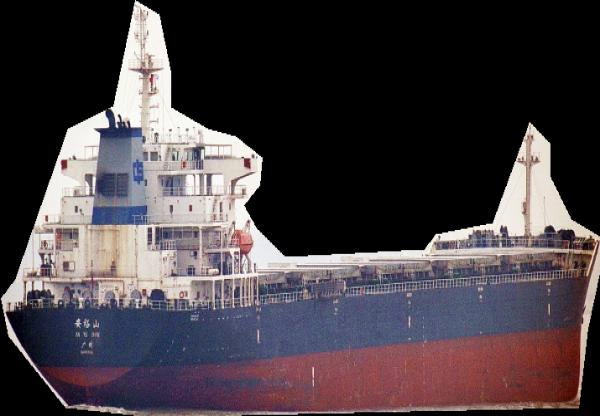Bulkers: (1, 0, 600, 416)
